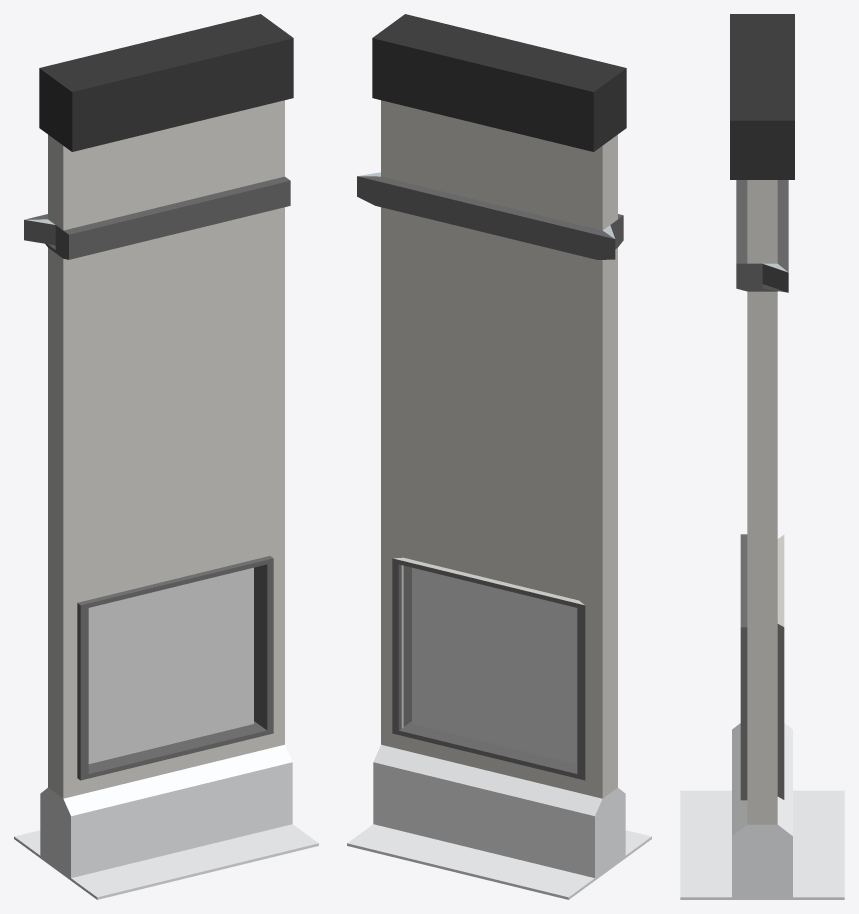
Rendered from Wall-Window-2sq.fbx.
The picture shows the model from 3 angles, left to right: view 1: azimuth 30°, elevation 25°; view 2: azimuth 150°, elevation 25°; view 3: azimuth 270°, elevation 25°; orthographic projection.
Parts seen in each view (by area): view 1: Wall-Win-2sq, WindowPane1sq.001; view 2: Wall-Win-2sq, WindowPane1sq.001; view 3: Wall-Win-2sq.
Part boxes in pixels (x1,y1,x2,y2): Wall-Win-2sq: (14,14,318,899); WindowPane1sq.001: (88,567,253,763); Wall-Win-2sq: (347,14,651,899); WindowPane1sq.001: (412,567,577,763); Wall-Win-2sq: (680,14,844,899).
Bounding box in the file's own units: 3.09 × 1.72 × 9.02.
